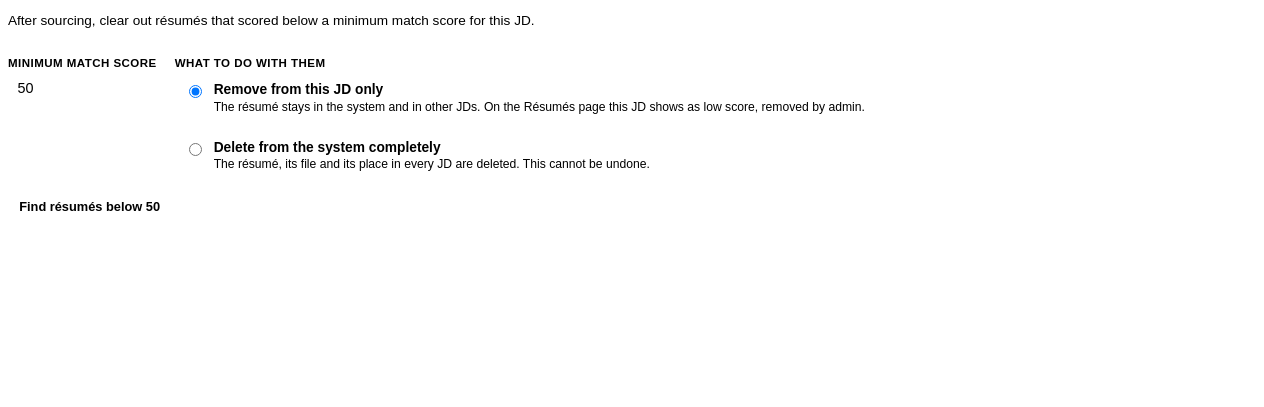
Scenario: LowMatchCleanup › previews who scored below the minimum before anything is removed
Click the button "Find résumés below 50".
click(90, 207)  # box [8,194,171,219]
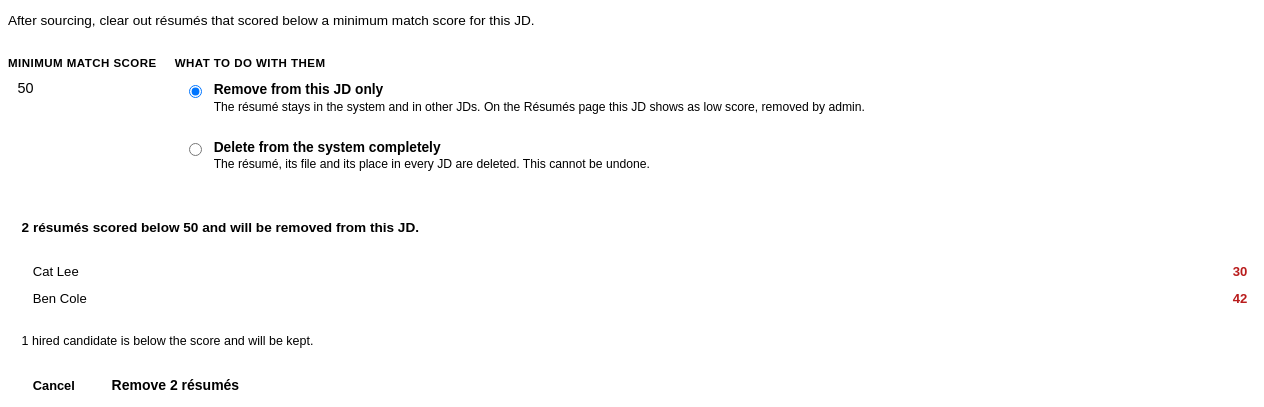
Expected: the text "2 résumés scored below 50 and will be removed from this JD." is shown, [22,220,419,235]
Expected: the text "Cat Lee" is shown, [33,264,79,278]
Expected: the text "30" is shown, [1233,264,1247,278]
